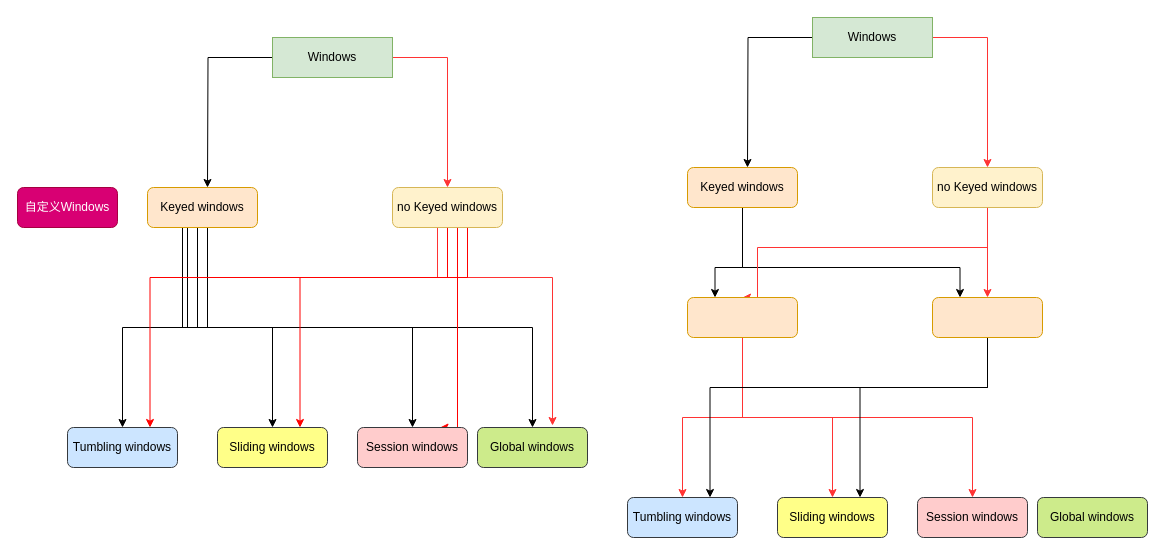
The diagram is 1165 pixels wide and 555 high, and some of its shapes have lost their labels. Each missing label, with the centre of its shape:
"EventTime" goes at point 742,317.
"Process" goes at point 987,317.
